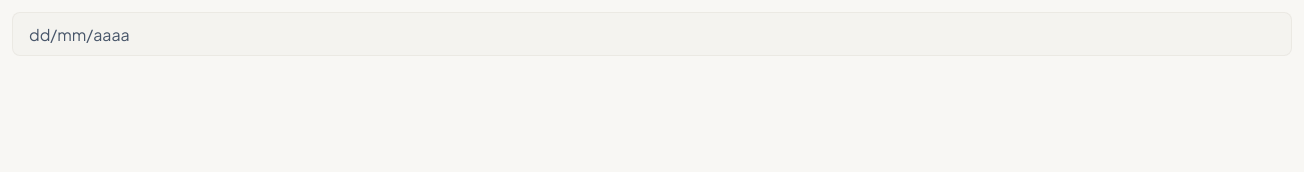
it: InputFechaNacimiento › avisa si la fecha completa no existe y no entrega ninguna fecha
The width and height of the screenshot is (1304, 172).
Type "31021980" into the field named "Fecha de nacimiento" at (652, 34), box [12,12,1292,56]
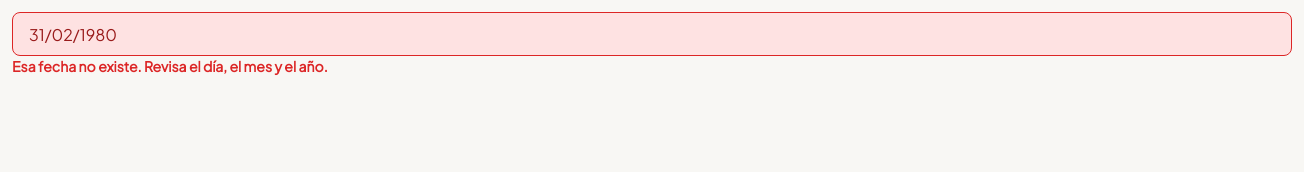
Now the message shows "no existe", box [12,57,328,75]
